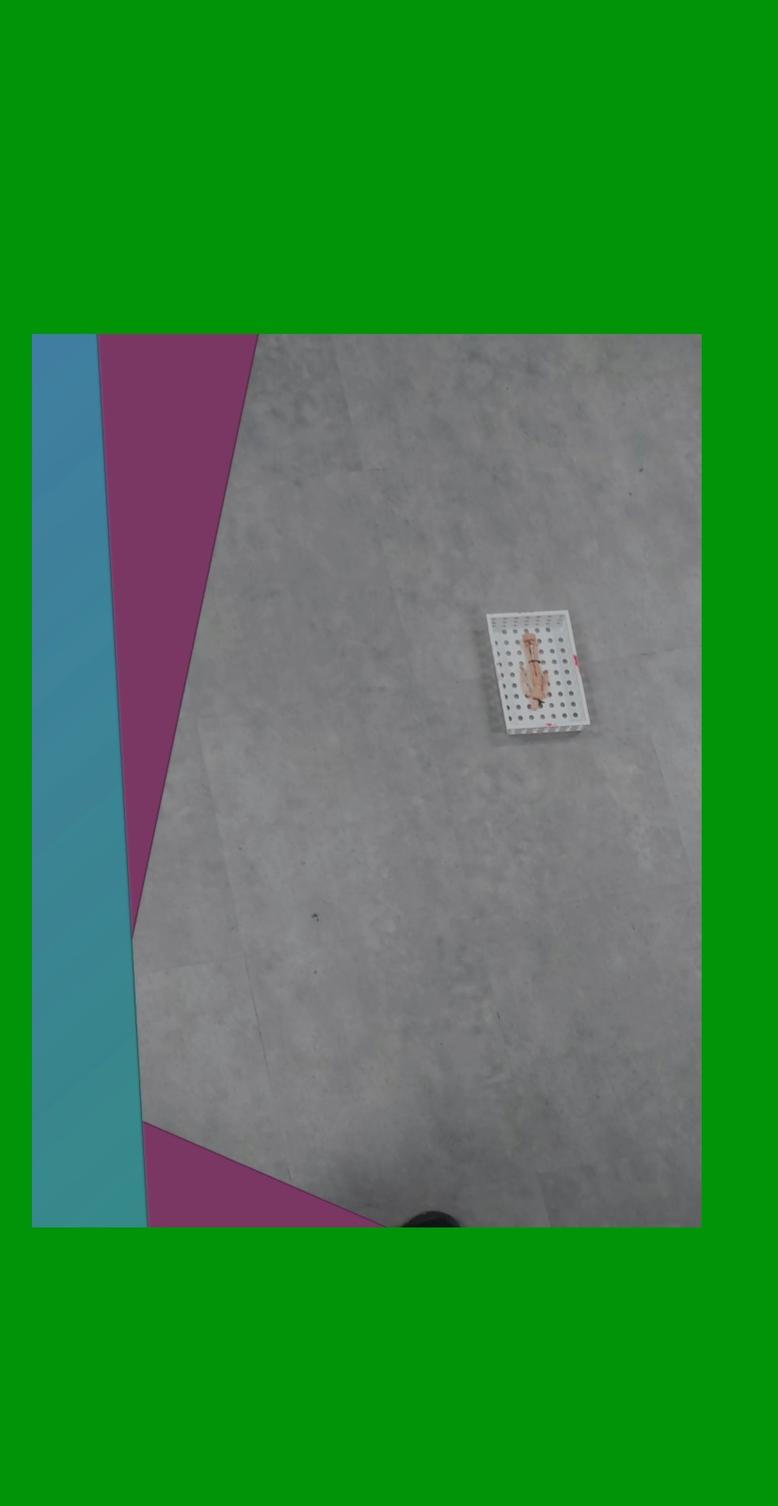basket: (484, 606, 593, 738)
mannequin: (517, 631, 551, 713)
